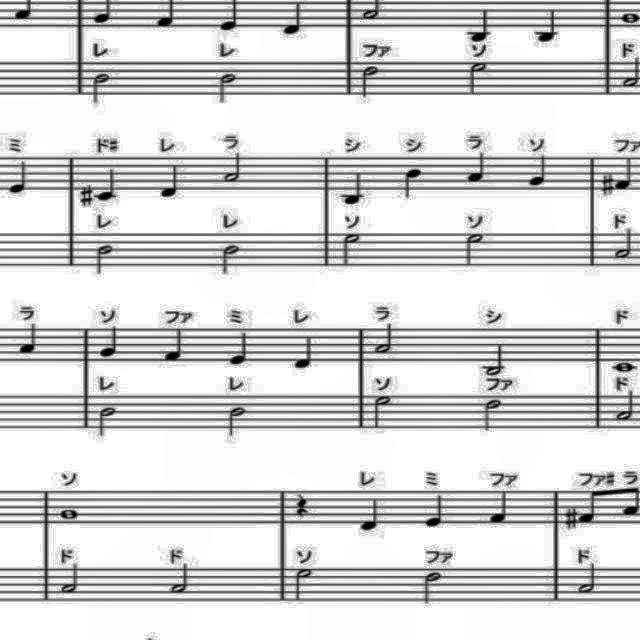Diez: (559, 506, 581, 534), (76, 183, 95, 211)
Eighth-note: (576, 487, 604, 531), (615, 486, 640, 522), (639, 486, 640, 522)
Full-note: (56, 505, 88, 523), (604, 358, 640, 374), (615, 8, 640, 27), (639, 8, 640, 27)
Half-note: (80, 67, 120, 105), (473, 340, 511, 380), (332, 232, 366, 272), (476, 396, 506, 434), (286, 565, 316, 603), (606, 226, 636, 264), (56, 560, 84, 600), (416, 566, 444, 606), (460, 230, 488, 270), (366, 322, 396, 358), (612, 387, 640, 425), (225, 401, 249, 444), (218, 239, 242, 281), (573, 562, 601, 598), (355, 64, 381, 100), (466, 60, 492, 96), (94, 403, 120, 439), (214, 68, 238, 105), (93, 242, 117, 278), (368, 392, 392, 428), (170, 561, 194, 597), (220, 150, 244, 182), (620, 57, 640, 91)
Quarter-note: (91, 166, 123, 206), (464, 4, 496, 44), (464, 148, 494, 188), (484, 486, 514, 526), (534, 7, 562, 49), (96, 324, 125, 364), (292, 332, 320, 372), (6, 159, 34, 197), (156, 162, 184, 200), (340, 169, 368, 207), (522, 152, 550, 190), (400, 164, 426, 202), (422, 492, 446, 532), (163, 326, 187, 364), (228, 331, 252, 369), (282, 1, 306, 39), (360, 495, 384, 533), (613, 154, 635, 194), (18, 322, 42, 358)
Quarter-rest: (291, 490, 313, 518)
